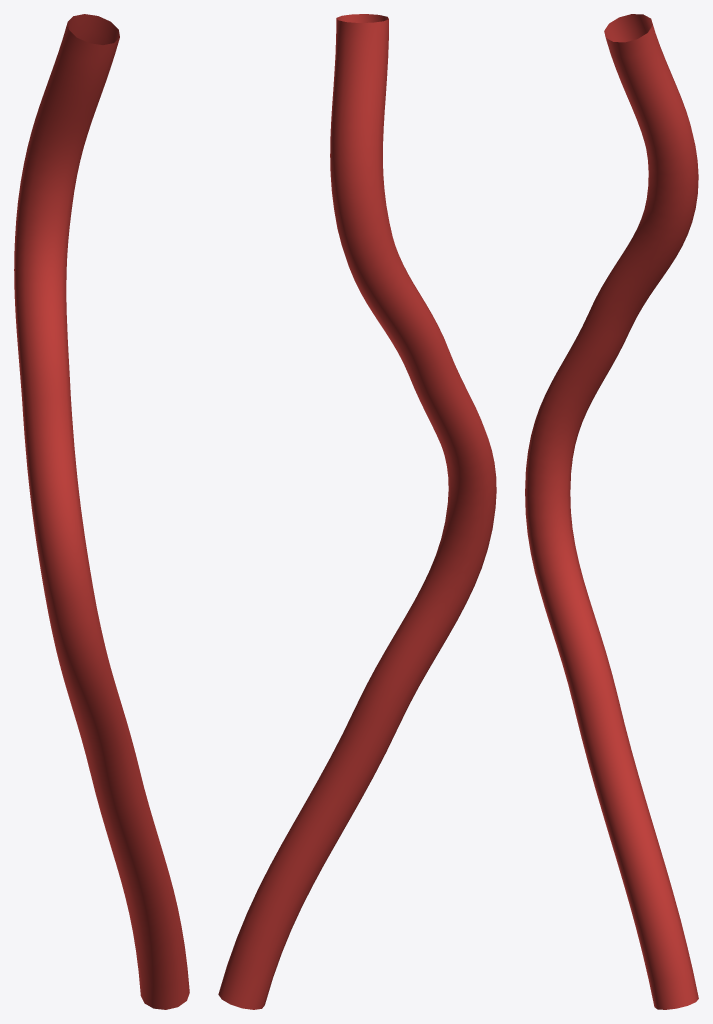
The picture shows the model from 3 angles, left to right: view 1: azimuth 30°, elevation 25°; view 2: azimuth 150°, elevation 25°; view 3: azimuth 270°, elevation 25°; orthographic projection. The views are drawn at different scales.
Visible parts, largest first — view 1: 右侧足底内侧动脉; view 2: 右侧足底内侧动脉; view 3: 右侧足底内侧动脉.
Boxes of the visible parts, x1=… form: 右侧足底内侧动脉: x1=14, y1=14, x2=189, y2=1009; 右侧足底内侧动脉: x1=218, y1=14, x2=496, y2=1009; 右侧足底内侧动脉: x1=525, y1=14, x2=698, y2=1009.
Size of the model in its own units: 0.0132 by 0.0607 by 0.0102.
